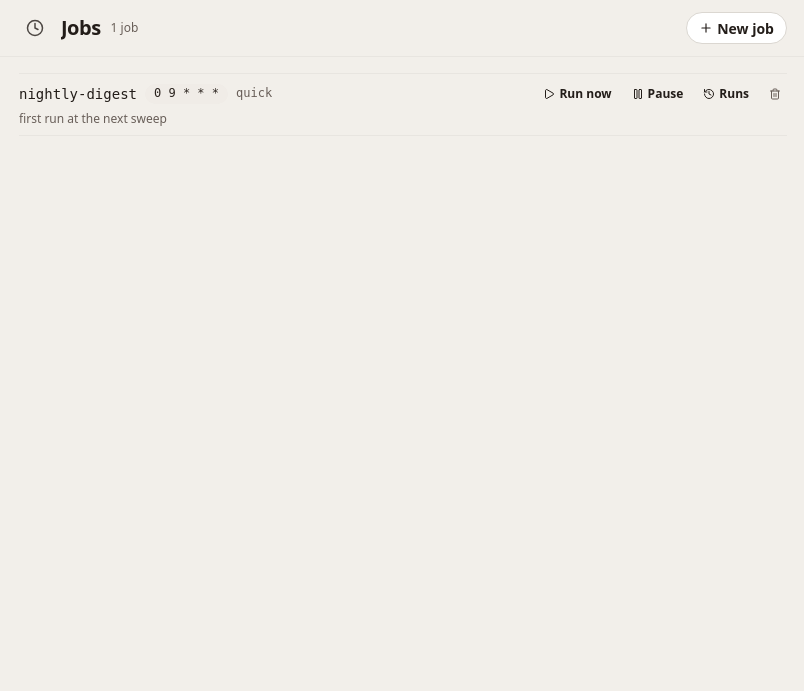
Test case: the page reads as a list first › keeps the create form closed until asked, and counts jobs in the header
The width and height of the screenshot is (804, 691).
Expected: the text "1 job" is shown, [111,19,138,37]
Expected: the heading "Jobs" is shown, [61,14,101,42]
Step 1. Click the button "New job" → click(737, 28), box [686,12,787,44]
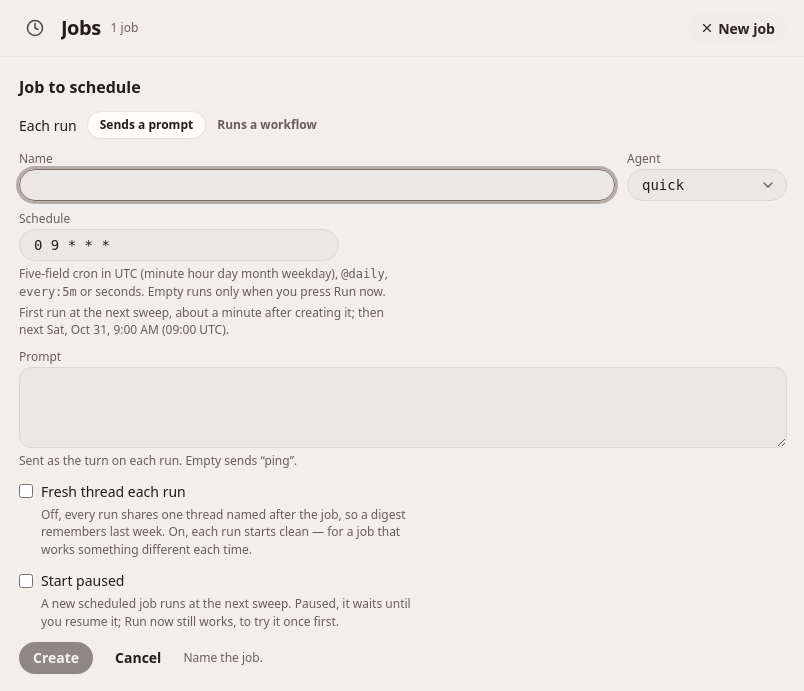
Now the button "New job" is expanded, box [688,12,787,44]
Now the field labelled "Name" is shown, box [19,169,615,201]
